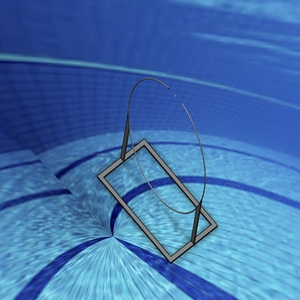circle: (95, 76, 218, 263)
